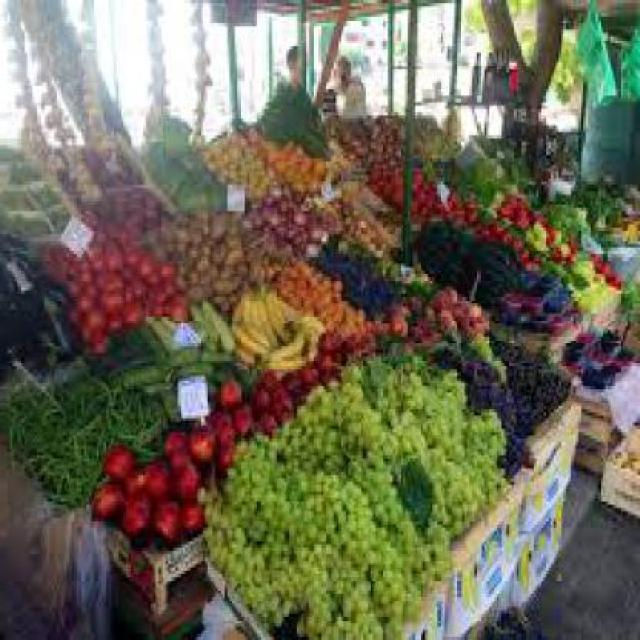BIODEGRADABLE: (269, 472, 383, 580), (384, 353, 467, 455), (208, 439, 294, 535), (211, 525, 294, 617), (22, 402, 100, 498), (301, 571, 405, 637), (346, 357, 408, 458), (381, 534, 452, 617), (262, 72, 331, 156), (440, 459, 511, 521), (464, 238, 522, 310), (418, 218, 476, 284), (512, 357, 573, 415), (181, 242, 242, 300), (2, 386, 80, 429), (336, 116, 406, 162), (394, 455, 438, 528), (232, 284, 290, 339), (232, 211, 274, 284), (212, 125, 265, 181), (561, 182, 625, 228), (2, 286, 40, 363), (101, 389, 156, 442), (147, 102, 196, 155), (146, 142, 202, 188), (502, 409, 536, 478), (455, 152, 499, 205), (136, 392, 169, 462), (467, 353, 511, 405), (178, 213, 250, 244), (45, 290, 77, 359), (274, 261, 329, 301), (464, 402, 507, 452), (469, 333, 509, 385), (178, 168, 224, 212), (363, 274, 408, 314), (77, 360, 111, 412), (152, 495, 183, 548), (269, 320, 309, 360), (146, 211, 180, 257), (420, 112, 454, 158), (2, 244, 47, 278), (316, 274, 346, 323), (123, 494, 154, 538), (434, 339, 478, 370), (322, 243, 366, 274), (548, 200, 588, 234), (522, 254, 580, 277), (346, 261, 379, 301), (96, 346, 161, 366), (326, 300, 376, 326), (92, 482, 128, 518), (171, 456, 203, 496), (105, 442, 136, 482), (457, 290, 488, 330), (37, 267, 77, 298), (368, 162, 398, 202), (204, 297, 236, 334), (180, 494, 211, 532), (190, 422, 221, 460), (489, 330, 534, 356), (583, 359, 620, 390), (344, 213, 381, 244), (121, 360, 164, 386), (280, 300, 328, 323), (410, 310, 442, 344), (74, 284, 101, 324), (32, 326, 62, 360), (2, 432, 80, 445), (309, 204, 334, 244), (163, 343, 200, 369), (72, 247, 96, 287), (438, 508, 474, 534), (617, 424, 638, 468), (267, 346, 307, 369), (522, 267, 562, 290), (149, 458, 173, 496), (573, 253, 601, 284), (268, 390, 300, 416), (343, 327, 375, 353), (141, 316, 165, 350), (102, 283, 126, 317), (529, 214, 551, 251), (12, 214, 52, 234), (620, 271, 638, 315), (236, 323, 270, 346), (235, 402, 257, 436), (151, 309, 175, 340), (551, 223, 575, 254), (171, 363, 217, 379), (210, 406, 238, 432), (220, 376, 248, 402), (190, 304, 218, 330), (161, 382, 181, 416), (428, 180, 449, 212), (86, 136, 111, 162), (109, 230, 126, 268), (502, 154, 522, 186), (284, 370, 308, 396), (504, 287, 528, 313), (379, 244, 403, 270), (5, 231, 32, 254), (581, 284, 608, 307), (171, 286, 191, 317), (393, 300, 413, 331), (477, 207, 497, 238), (12, 188, 40, 210), (168, 426, 188, 456), (464, 188, 484, 218), (345, 178, 361, 215), (418, 172, 434, 208), (153, 277, 178, 300), (289, 165, 314, 188), (611, 343, 635, 366), (593, 248, 618, 270), (96, 162, 121, 184), (122, 162, 143, 188), (319, 353, 346, 373), (15, 162, 42, 182), (87, 303, 104, 334), (94, 237, 111, 268), (239, 340, 259, 366), (126, 320, 146, 346), (312, 152, 332, 178), (274, 146, 294, 172), (126, 297, 151, 317), (205, 340, 238, 355), (302, 363, 326, 383), (598, 280, 622, 300), (448, 188, 464, 218), (82, 208, 103, 230), (551, 284, 571, 307), (128, 271, 148, 294), (274, 211, 294, 234), (134, 466, 151, 492), (220, 436, 237, 462), (521, 194, 534, 228), (252, 386, 274, 406), (435, 284, 457, 304), (128, 238, 150, 258), (497, 218, 517, 240), (107, 188, 128, 208), (128, 188, 144, 214), (99, 268, 126, 283), (161, 310, 181, 330), (148, 297, 168, 317), (141, 254, 161, 274), (126, 218, 146, 238), (277, 188, 297, 208), (324, 330, 341, 353), (529, 290, 546, 313), (264, 192, 279, 218), (624, 214, 638, 241), (40, 188, 62, 204), (328, 192, 344, 214), (109, 326, 126, 346), (262, 370, 284, 385), (405, 291, 427, 306), (605, 268, 627, 283), (502, 194, 518, 214), (438, 308, 459, 323), (54, 208, 69, 228), (556, 307, 569, 330), (396, 174, 404, 208), (289, 221, 306, 237), (146, 192, 159, 212), (299, 148, 312, 168), (564, 308, 581, 323), (163, 258, 180, 273), (255, 413, 276, 425), (284, 139, 299, 155), (526, 317, 551, 326), (296, 188, 312, 201), (126, 258, 139, 273), (149, 212, 173, 220), (104, 222, 125, 230), (573, 340, 589, 349), (151, 265, 163, 277), (378, 320, 391, 329), (608, 330, 620, 339), (297, 208, 306, 218), (395, 158, 403, 168)
GLASS: (485, 46, 497, 99), (497, 46, 509, 92), (474, 46, 484, 96), (508, 59, 524, 90)
